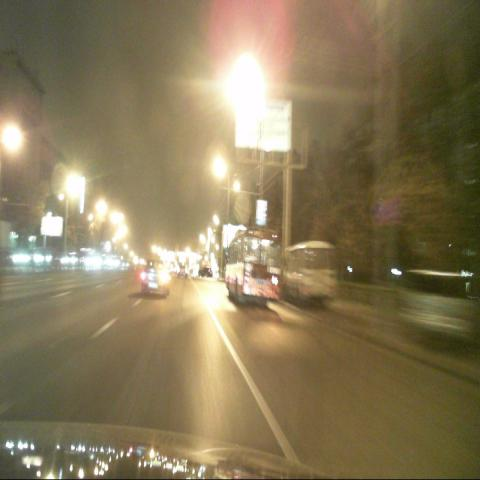3_27: (369, 199, 384, 226)
